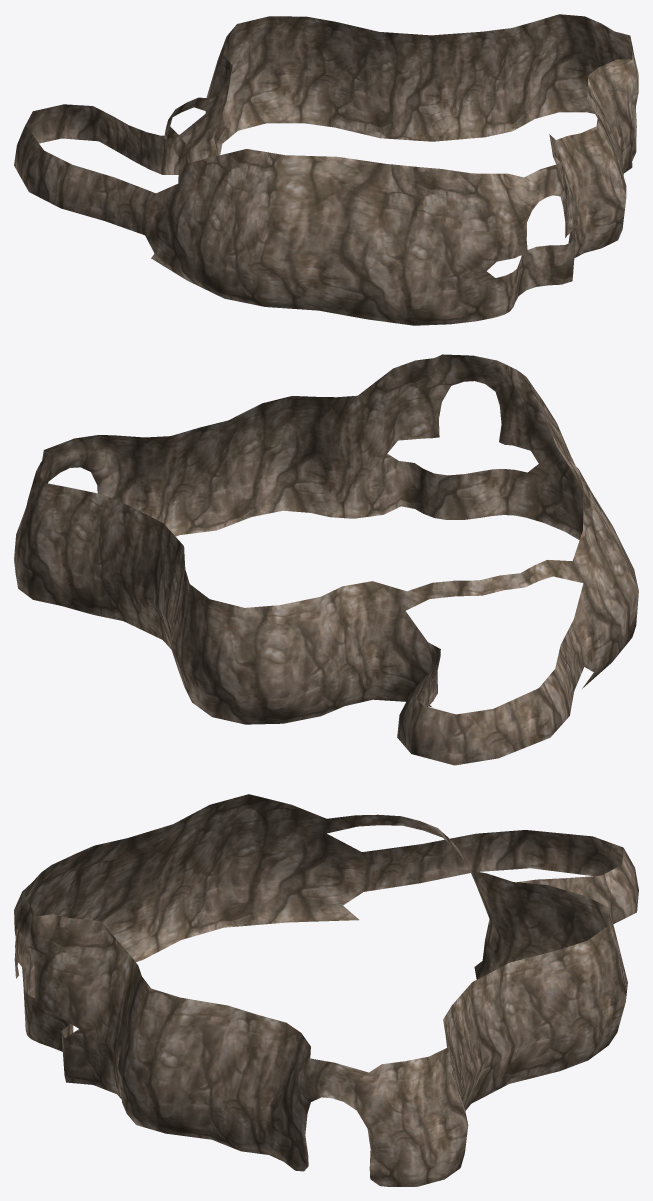
Rendered from EKH_CAVERNS_PS_CA_SIDE_CAVE77559.fbx.
The picture shows the model from 3 angles, top to bottom: view 1: azimuth 30°, elevation 25°; view 2: azimuth 150°, elevation 25°; view 3: azimuth 270°, elevation 25°; orthographic projection. The views are drawn at different scales.
Parts seen in each view (by area): view 1: EKH_CAVERNS_PS_CA_SIDE_CAVE77559; view 2: EKH_CAVERNS_PS_CA_SIDE_CAVE77559; view 3: EKH_CAVERNS_PS_CA_SIDE_CAVE77559.
Boxes of the visible parts, x1,y1,x2,y2 form: EKH_CAVERNS_PS_CA_SIDE_CAVE77559: (14, 14, 638, 325); EKH_CAVERNS_PS_CA_SIDE_CAVE77559: (14, 354, 638, 765); EKH_CAVERNS_PS_CA_SIDE_CAVE77559: (14, 794, 638, 1186).
Bounding box in the file's own units: 274538 × 68869 × 243635.
Materials: 1 (1 with a texture image).
